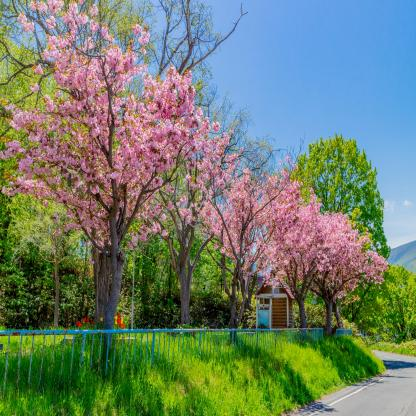YaeSakura: (0, 0, 201, 246), (153, 122, 236, 258), (209, 155, 276, 270), (260, 182, 325, 296), (311, 213, 366, 299), (330, 252, 388, 304)
